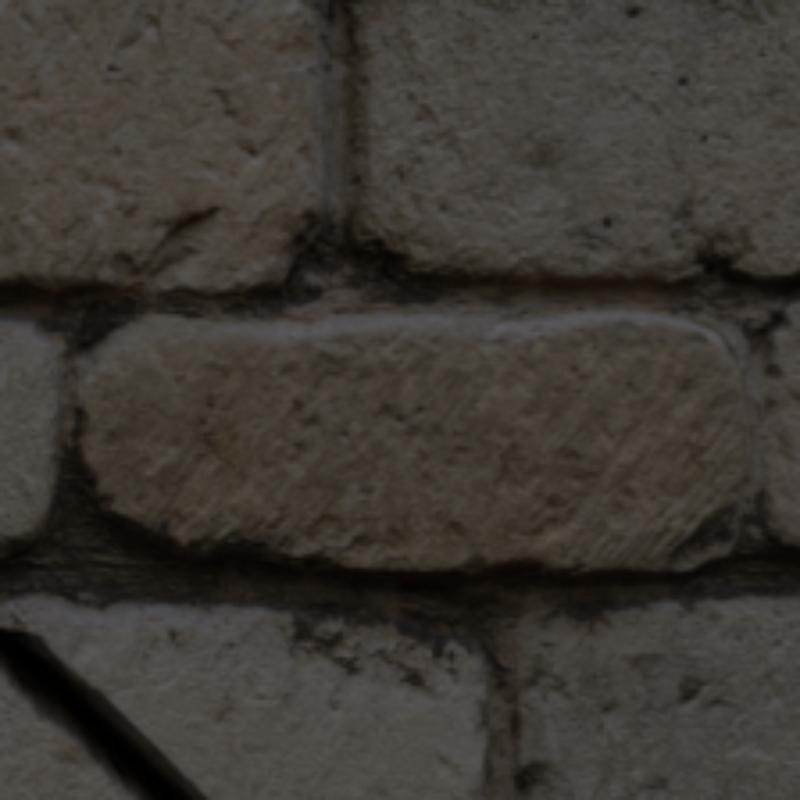pothole: (0, 629, 204, 796)
